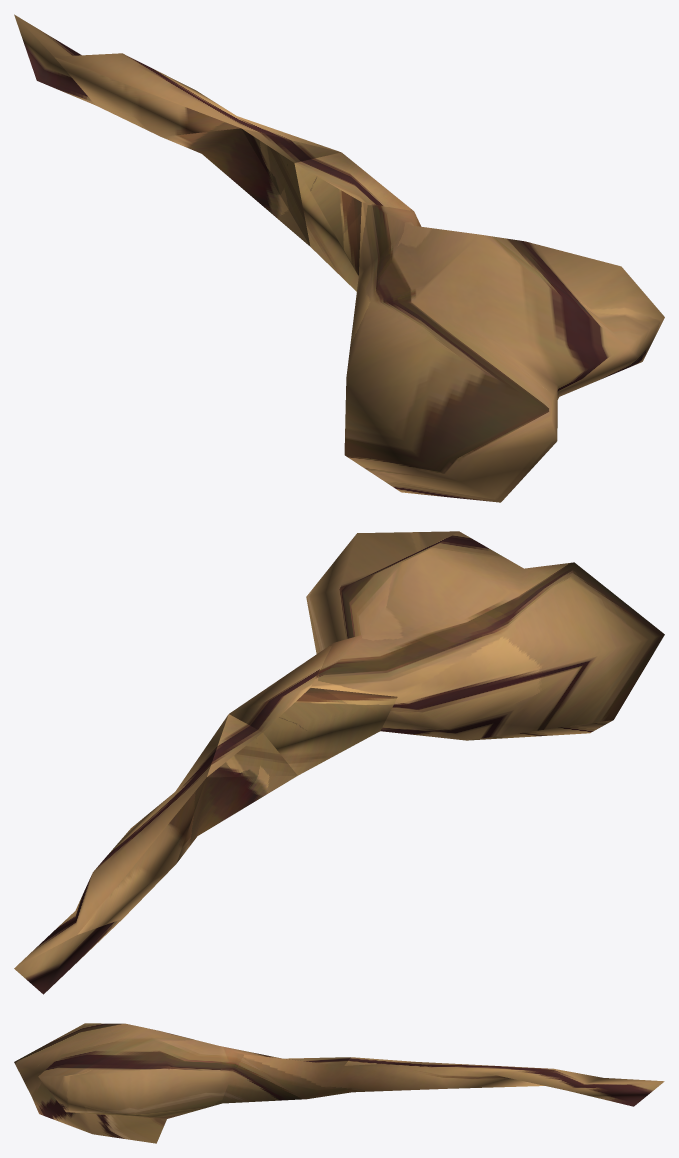
The model's file is club.fbx.
3 views of the same model, one above another, from view 1: azimuth 30°, elevation 25°; view 2: azimuth 150°, elevation 25°; view 3: azimuth 270°, elevation 25° (orthographic). The views are drawn at different scales.
Visible parts, largest first — view 1: Club; view 2: Club; view 3: Club.
Part boxes in pixels (<box>): Club: <box>14,14,664,502</box>; Club: <box>14,531,664,994</box>; Club: <box>14,1023,664,1143</box>.
Bounding box in the file's own units: 56.71 × 34.72 × 184.
